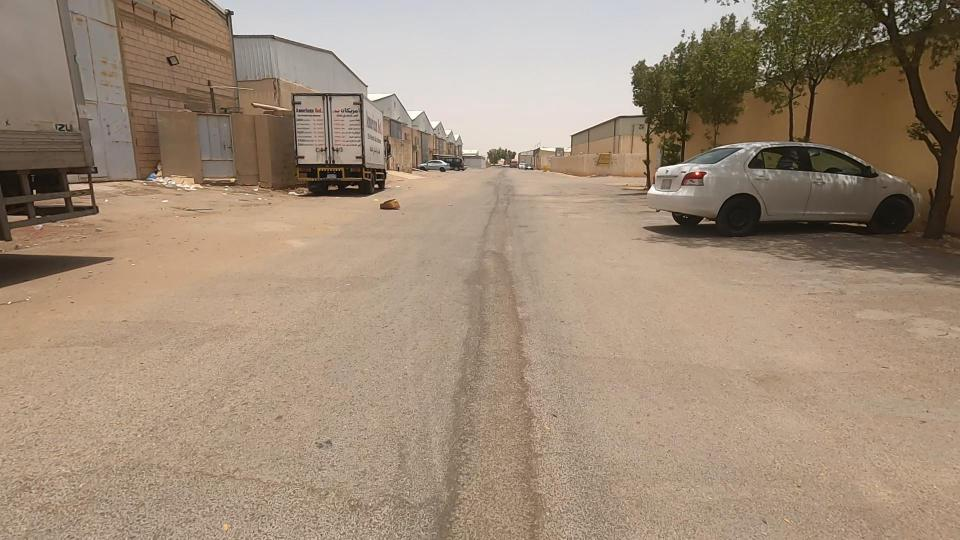GARBAGE: (106, 137, 230, 228), (236, 163, 336, 219), (345, 168, 426, 233)
POTHOLES: (365, 307, 611, 526), (420, 191, 577, 420)
